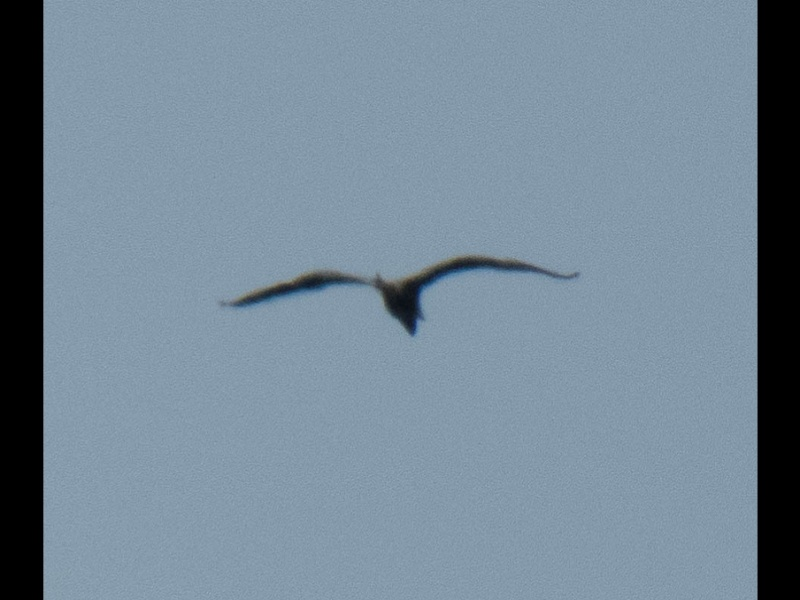heron: (219, 249, 594, 343)
